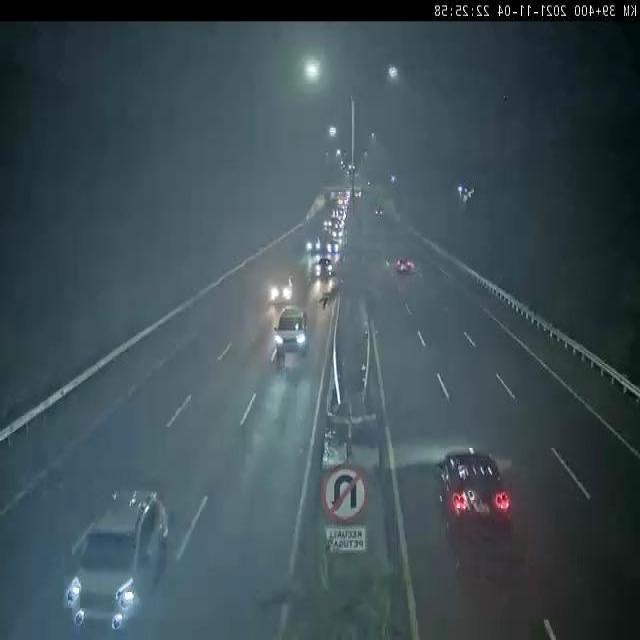Car: (62, 482, 180, 640), (421, 443, 522, 550), (276, 302, 312, 359), (264, 274, 297, 318), (311, 256, 340, 282), (394, 254, 418, 280)
